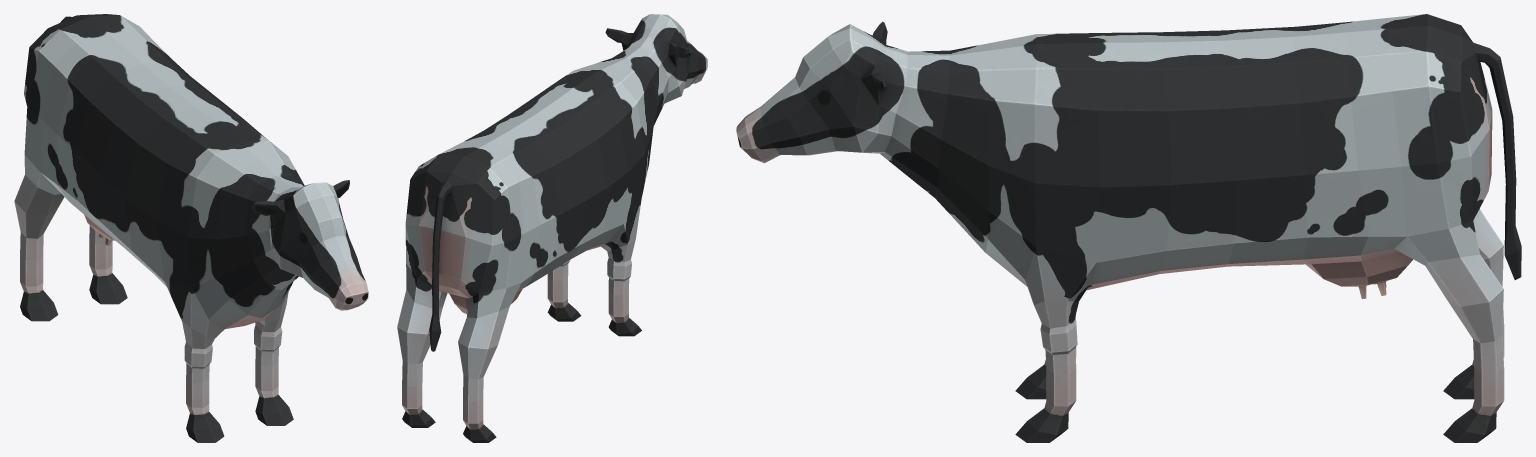
The model's file is prop_pz_cow.glb.
The picture shows the model from 3 angles, left to right: view 1: azimuth 30°, elevation 25°; view 2: azimuth 150°, elevation 25°; view 3: azimuth 270°, elevation 25°; orthographic projection. The views are drawn at different scales.
Visible parts, largest first — view 1: Cow_mesh; view 2: Cow_mesh; view 3: Cow_mesh.
Boxes of the visible parts, x1,y1,x2,y2 form: Cow_mesh: [14, 14, 368, 442]; Cow_mesh: [397, 14, 707, 442]; Cow_mesh: [736, 14, 1521, 442].
Size of the model in its own units: 3.36 by 7.42 by 13.65.
Materials: 1 (1 with a texture image).
